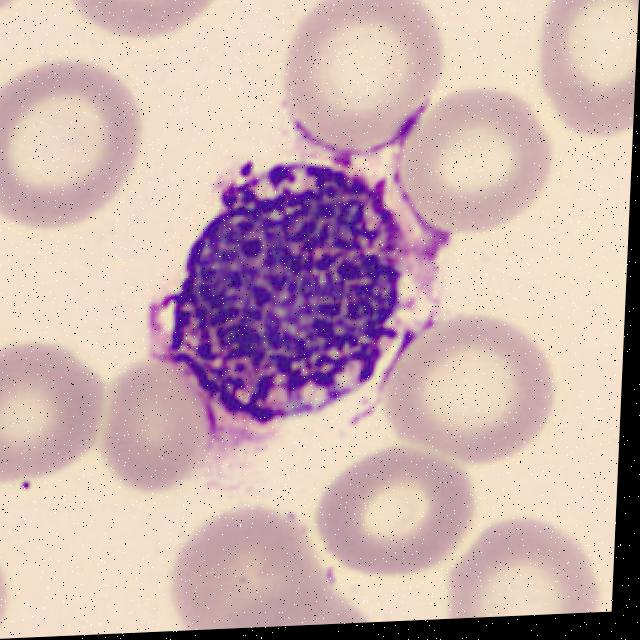basophil: (157, 159, 415, 435)
rbc: (375, 301, 552, 462), (395, 81, 559, 243), (297, 437, 476, 584), (0, 61, 144, 239), (281, 0, 445, 153), (170, 510, 332, 631), (437, 511, 611, 619), (92, 344, 217, 494), (0, 333, 108, 506), (528, 0, 640, 147), (64, 0, 236, 56), (217, 586, 401, 629), (0, 530, 10, 640), (0, 0, 24, 24)
